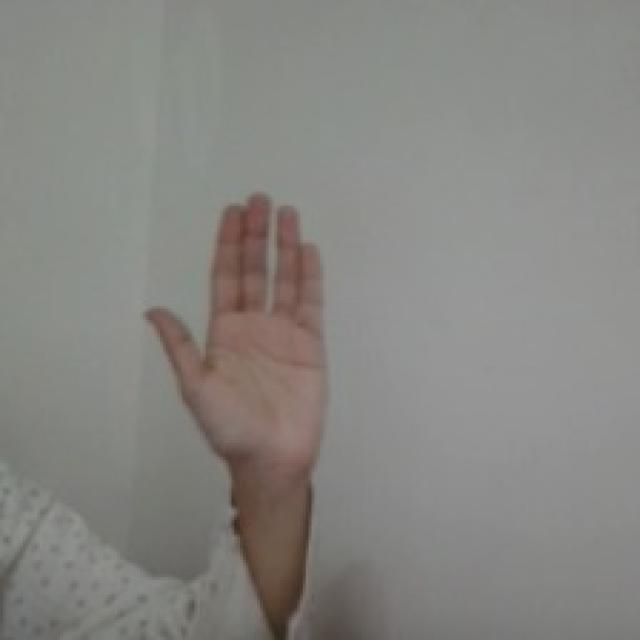Hello: (137, 187, 338, 482)
